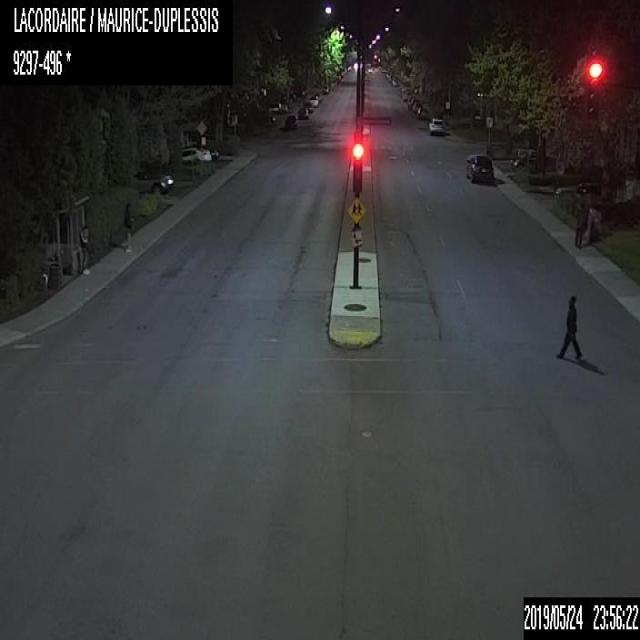pedestrian: (554, 295, 581, 361), (575, 184, 588, 245), (79, 223, 91, 276), (121, 200, 131, 251)
vehicle: (132, 171, 173, 193), (554, 180, 604, 198), (463, 152, 492, 183), (507, 147, 540, 170), (182, 145, 211, 164), (428, 116, 444, 134), (201, 145, 218, 160), (407, 97, 422, 112), (415, 105, 430, 118), (283, 115, 297, 128), (268, 102, 286, 112), (296, 105, 309, 118), (302, 100, 314, 112), (401, 87, 411, 101), (308, 94, 318, 106), (321, 84, 329, 93), (390, 77, 398, 85), (314, 91, 321, 100)
